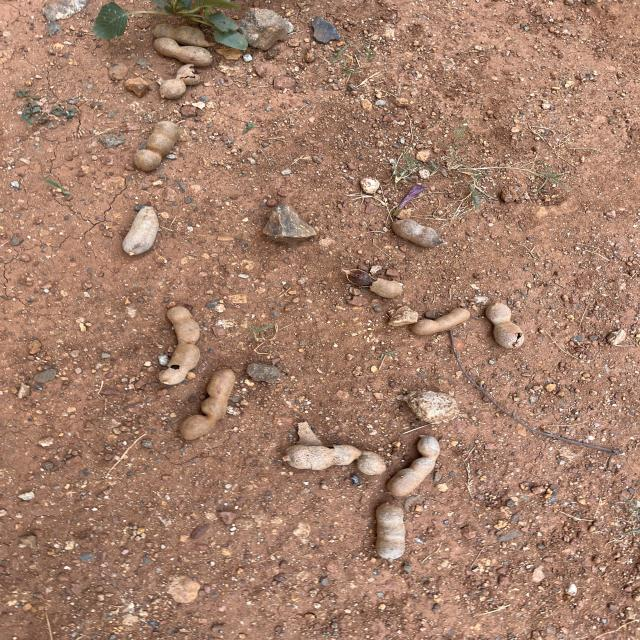tamarind: (182, 367, 236, 441), (389, 433, 440, 498), (158, 308, 200, 384), (284, 445, 386, 475), (134, 120, 178, 172), (154, 35, 213, 68), (338, 268, 402, 298), (121, 207, 160, 255), (376, 501, 406, 561), (157, 63, 202, 103), (410, 307, 471, 336), (487, 304, 524, 351), (153, 24, 215, 48), (392, 219, 445, 247)
